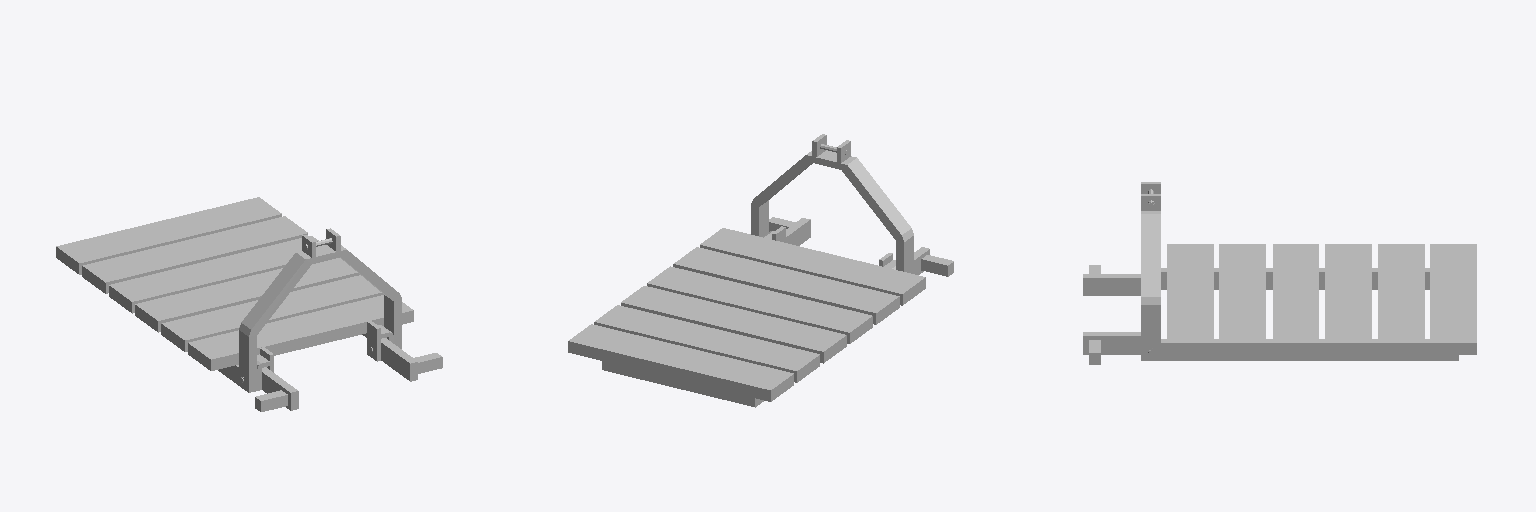
File: 3pointcarryall.obj
3 views of the same model, side by side, from view 1: azimuth 30°, elevation 25°; view 2: azimuth 150°, elevation 25°; view 3: azimuth 270°, elevation 25° (orthographic).
Parts seen in each view (by area): view 1: Cube.010_Cube.007, Cube.015_Cube.014, Cube.014_Cube.013, Cube.004_Cube.009, Cube.012_Cube.010, Cube.013_Cube.011, Cube.011_Cube.008, Cube.002_Cube.003, Cube.003_Cube.004, Cube.006_Cube.012, Cube.001_Cube.002; view 2: Cube.014_Cube.013, Cube.011_Cube.008, Cube.012_Cube.010, Cube.010_Cube.007, Cube.013_Cube.011, Cube.015_Cube.014, Cube.004_Cube.009, Cube.009_Cube.005, Cube.001_Cube.002, Cube.002_Cube.003; view 3: Cube.010_Cube.007, Cube.011_Cube.008, Cube.012_Cube.010, Cube.015_Cube.014, Cube.014_Cube.013, Cube.013_Cube.011, Cube.009_Cube.005, Cube.004_Cube.009, Cube.003_Cube.004, Cube.002_Cube.003.
Part boxes in pixels (bbox=[...]): Cube.010_Cube.007: bbox=[188, 295, 413, 370]; Cube.015_Cube.014: bbox=[82, 216, 307, 293]; Cube.014_Cube.013: bbox=[56, 197, 281, 274]; Cube.004_Cube.009: bbox=[239, 245, 401, 392]; Cube.012_Cube.010: bbox=[109, 236, 322, 313]; Cube.013_Cube.011: bbox=[135, 258, 359, 332]; Cube.011_Cube.008: bbox=[161, 275, 383, 351]; Cube.002_Cube.003: bbox=[381, 338, 417, 381]; Cube.003_Cube.004: bbox=[262, 367, 298, 410]; Cube.006_Cube.012: bbox=[367, 321, 393, 361]; Cube.001_Cube.002: bbox=[255, 390, 287, 411]; Cube.014_Cube.013: bbox=[568, 324, 793, 401]; Cube.011_Cube.008: bbox=[673, 247, 899, 324]; Cube.012_Cube.010: bbox=[621, 286, 846, 363]; Cube.010_Cube.007: bbox=[700, 228, 925, 305]; Cube.013_Cube.011: bbox=[647, 266, 872, 343]; Cube.015_Cube.014: bbox=[594, 305, 819, 382]; Cube.004_Cube.009: bbox=[751, 150, 913, 273]; Cube.009_Cube.005: bbox=[602, 361, 763, 407]; Cube.001_Cube.002: bbox=[921, 255, 953, 276]; Cube.002_Cube.003: bbox=[786, 218, 810, 245]; Cube.010_Cube.007: bbox=[1167, 244, 1213, 354]; Cube.011_Cube.008: bbox=[1219, 244, 1265, 354]; Cube.012_Cube.010: bbox=[1325, 244, 1371, 354]; Cube.015_Cube.014: bbox=[1378, 244, 1424, 354]; Cube.014_Cube.013: bbox=[1430, 244, 1476, 354]; Cube.013_Cube.011: bbox=[1273, 244, 1318, 354]; Cube.009_Cube.005: bbox=[1161, 268, 1458, 360]; Cube.004_Cube.009: bbox=[1141, 211, 1160, 360]; Cube.003_Cube.004: bbox=[1083, 274, 1140, 295]; Cube.002_Cube.003: bbox=[1083, 332, 1140, 354].
Bounding box in the file's own units: 0.7997 × 0.5085 × 1.34.